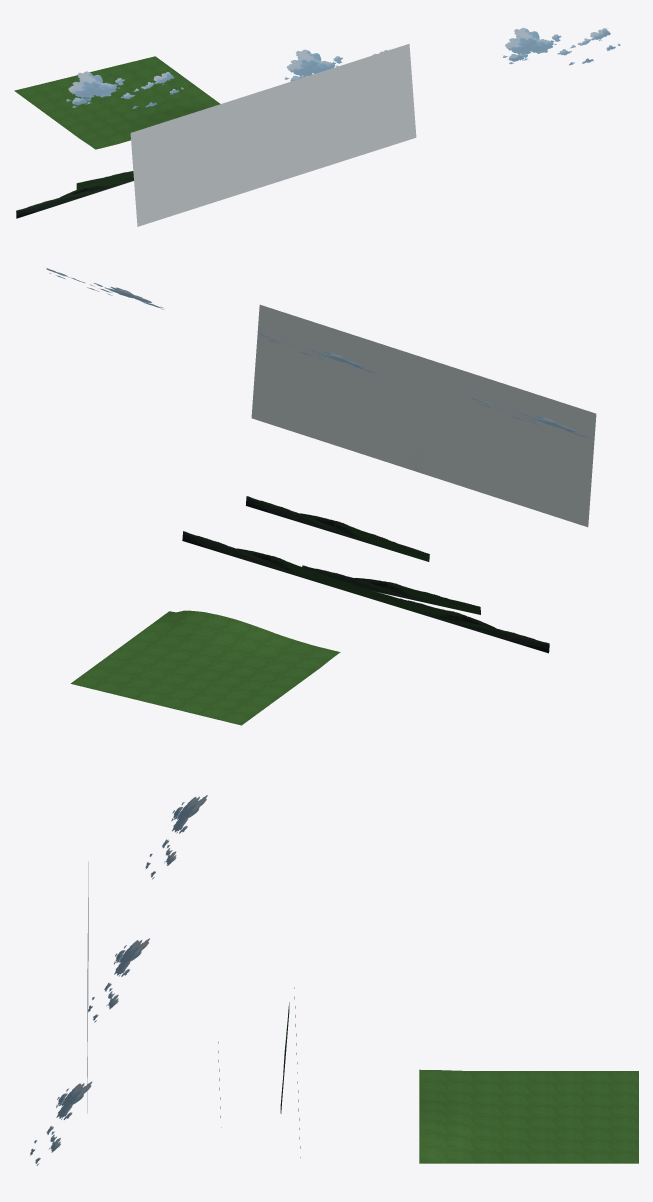
The model's file is lookdev.glb.
3 renders of one model, top to bottom at view 1: azimuth 30°, elevation 25°; view 2: azimuth 150°, elevation 25°; view 3: azimuth 270°, elevation 25°, orthographic. The views are drawn at different scales.
Visible parts, largest first — view 1: x46_chrlookdev_cloud_003, Mesh_Terrain, x46_chrlookdev_cloud_002, x46_chrlookdev_cloud_004 (3), x46_chrlookdev_cloud_004 (1); view 2: x46_chrlookdev_cloud_003, Mesh_Terrain, x46_chrlookdev_cloud_004 (3), x46_chrlookdev_cloud_004, x46_chrlookdev_cloud_004 (2), x46_chrlookdev_cloud_004 (1), x46_chrlookdev_cloud_002; view 3: Mesh_Terrain, x46_chrlookdev_cloud_002.
Boxes of the visible parts, box(x1,y1,x2,y2) form: x46_chrlookdev_cloud_003: box(130, 43, 416, 226); Mesh_Terrain: box(14, 56, 220, 149); x46_chrlookdev_cloud_002: box(66, 27, 620, 108); x46_chrlookdev_cloud_004 (3): box(16, 179, 133, 218); x46_chrlookdev_cloud_004 (1): box(76, 171, 133, 189); x46_chrlookdev_cloud_003: box(251, 304, 596, 527); Mesh_Terrain: box(70, 610, 340, 725); x46_chrlookdev_cloud_004 (3): box(365, 589, 549, 653); x46_chrlookdev_cloud_004: box(182, 531, 365, 596); x46_chrlookdev_cloud_004 (2): box(245, 496, 429, 561); x46_chrlookdev_cloud_004 (1): box(302, 565, 480, 614); x46_chrlookdev_cloud_002: box(46, 268, 589, 438); Mesh_Terrain: box(419, 1069, 638, 1163); x46_chrlookdev_cloud_002: box(30, 795, 207, 1165).
Size of the model in its own units: 118 by 33.99 by 85.41.
4 materials, 4 textured.
